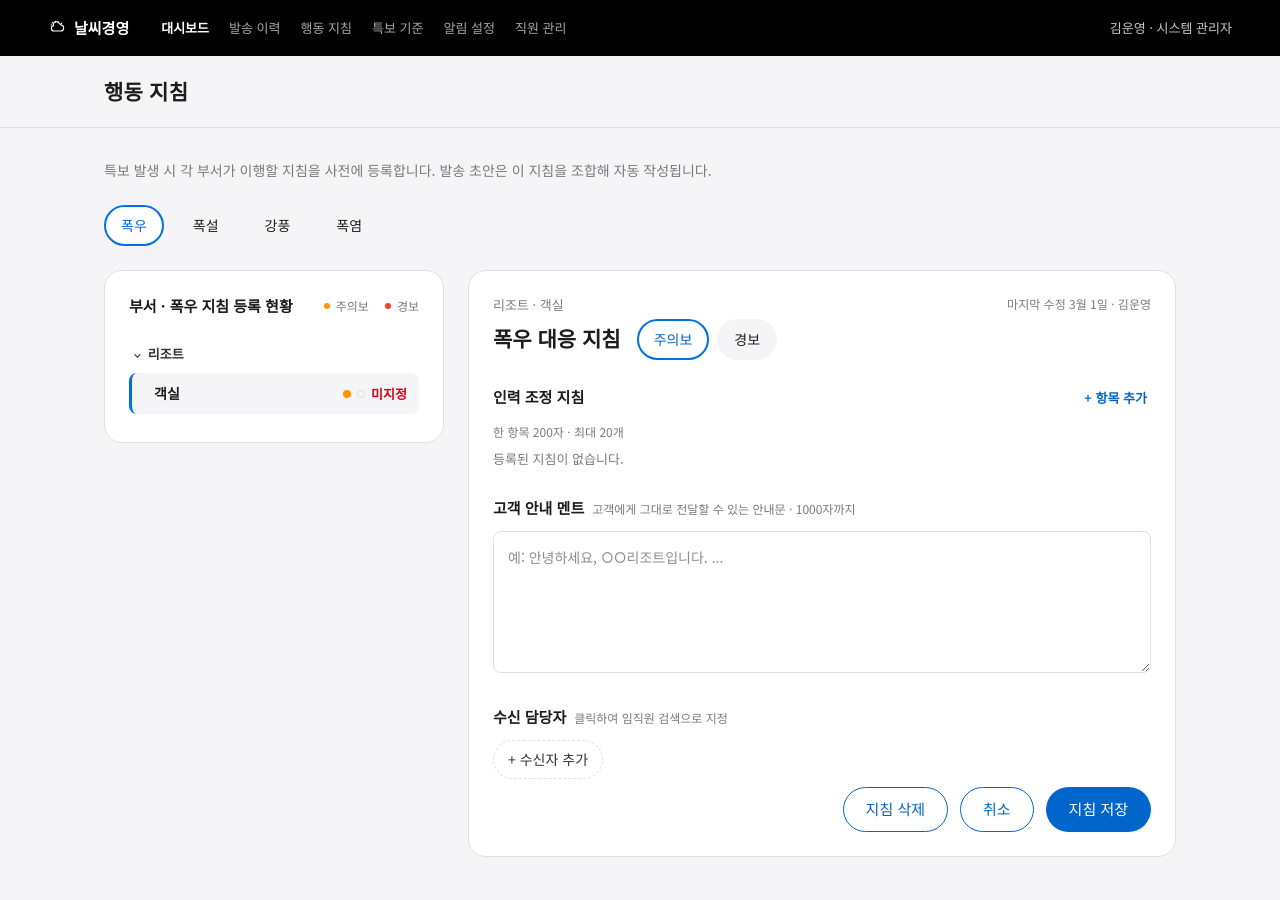
Test: Guidelines › 삭제가 실패하면 사유를 보여주고 목록을 그대로 둔다
Click the button "지침 삭제" at (895, 810), box [843, 788, 948, 832]
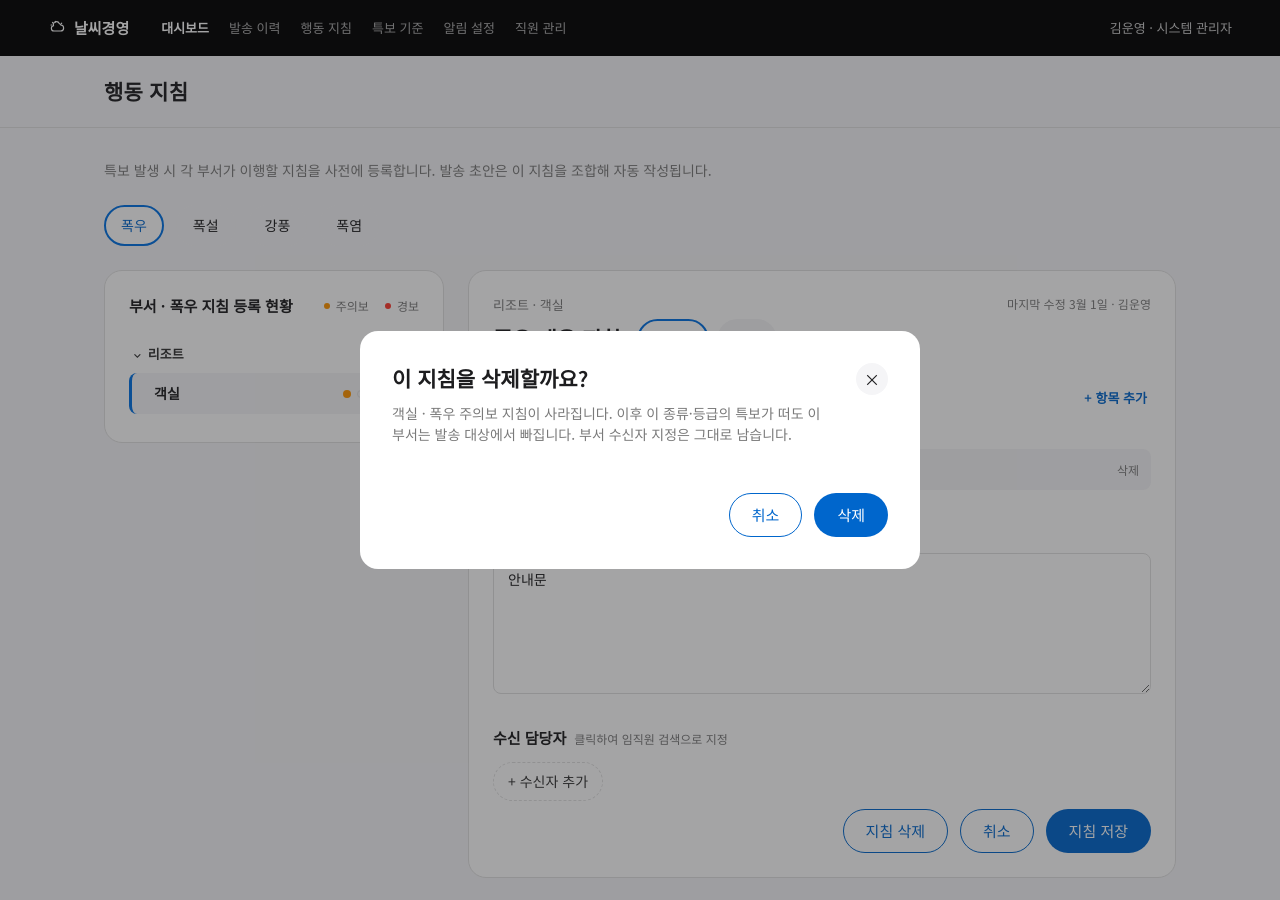
Click the button "삭제" at (851, 515), box [814, 492, 888, 537]
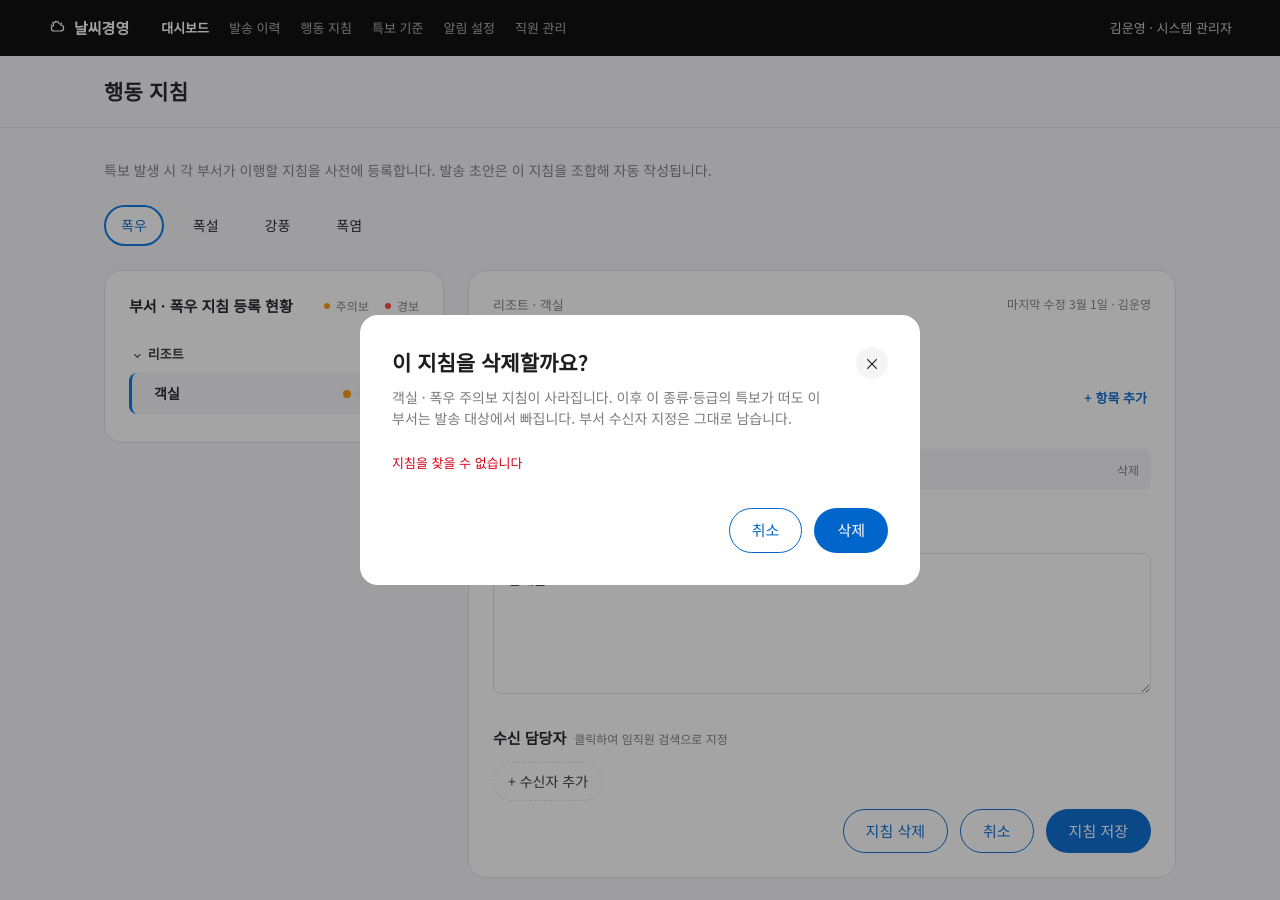
Expected: the text "지침을 찾을 수 없습니다" is shown, [392, 453, 522, 472]
